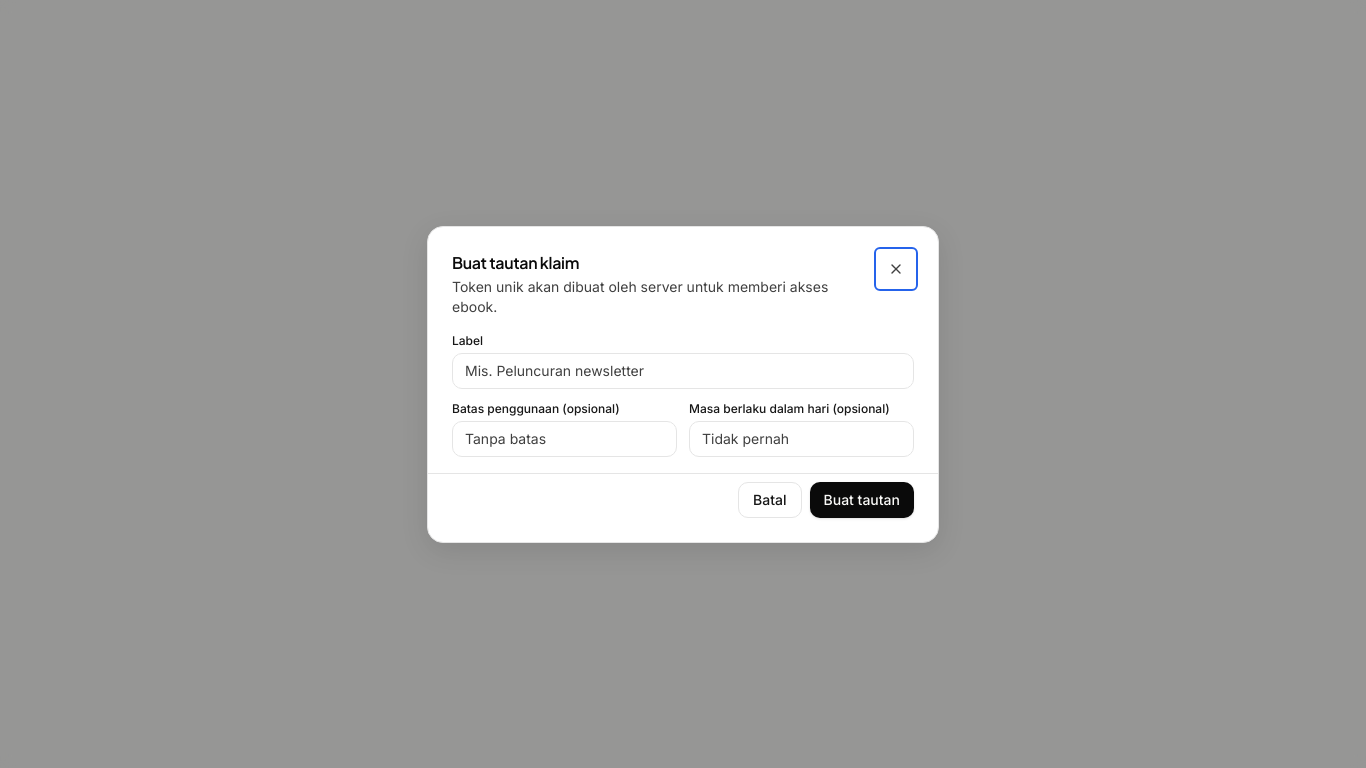
Scenario: komponen manajemen publikasi › memakai constraint native dan error field tanpa mengirim payload invalid
The width and height of the screenshot is (1366, 768).
Type "Peluncuran" into the field labelled "Label" at [683, 370], box [452,352,914,388]
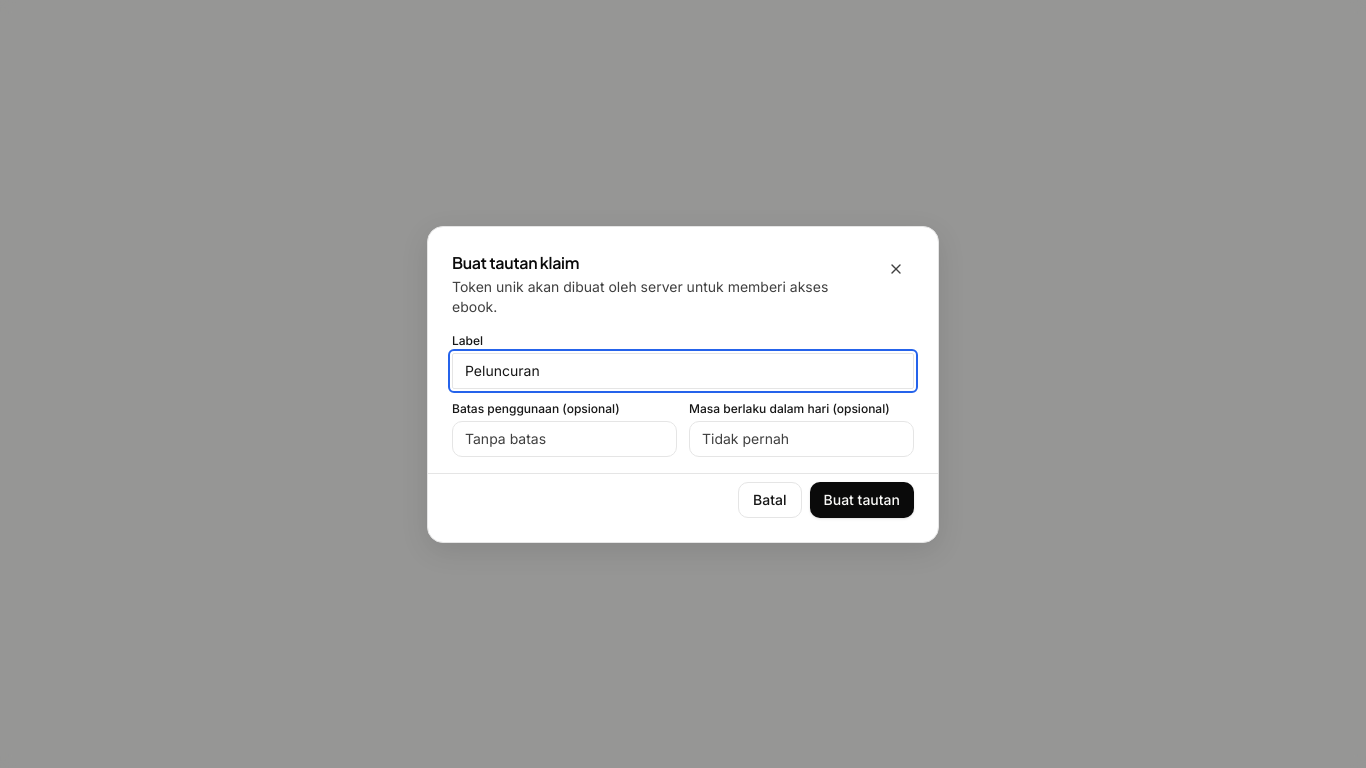
Type "0" into the number field labelled "Batas penggunaan (opsional)" at [564, 438], box [452,420,677,456]
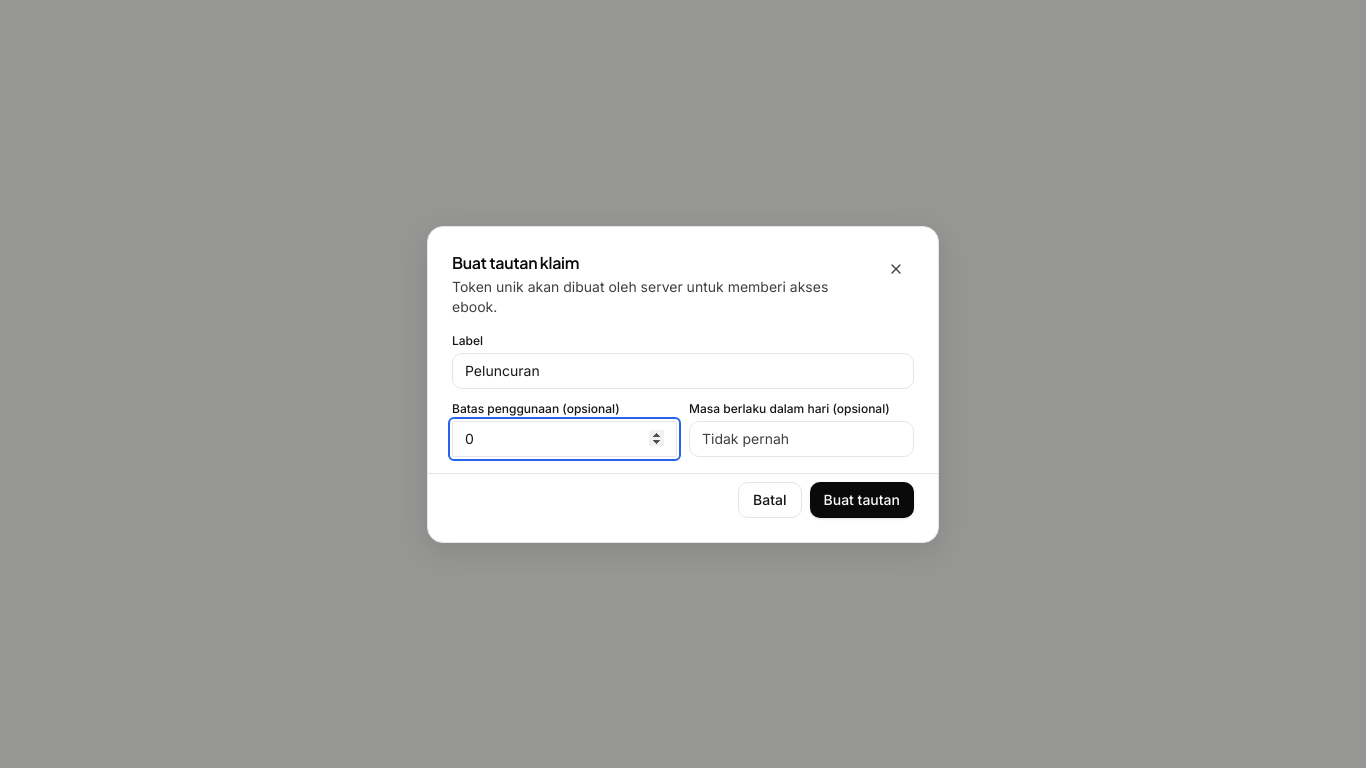
Click the button "Buat tautan" at [862, 500], box [810,482,914,518]
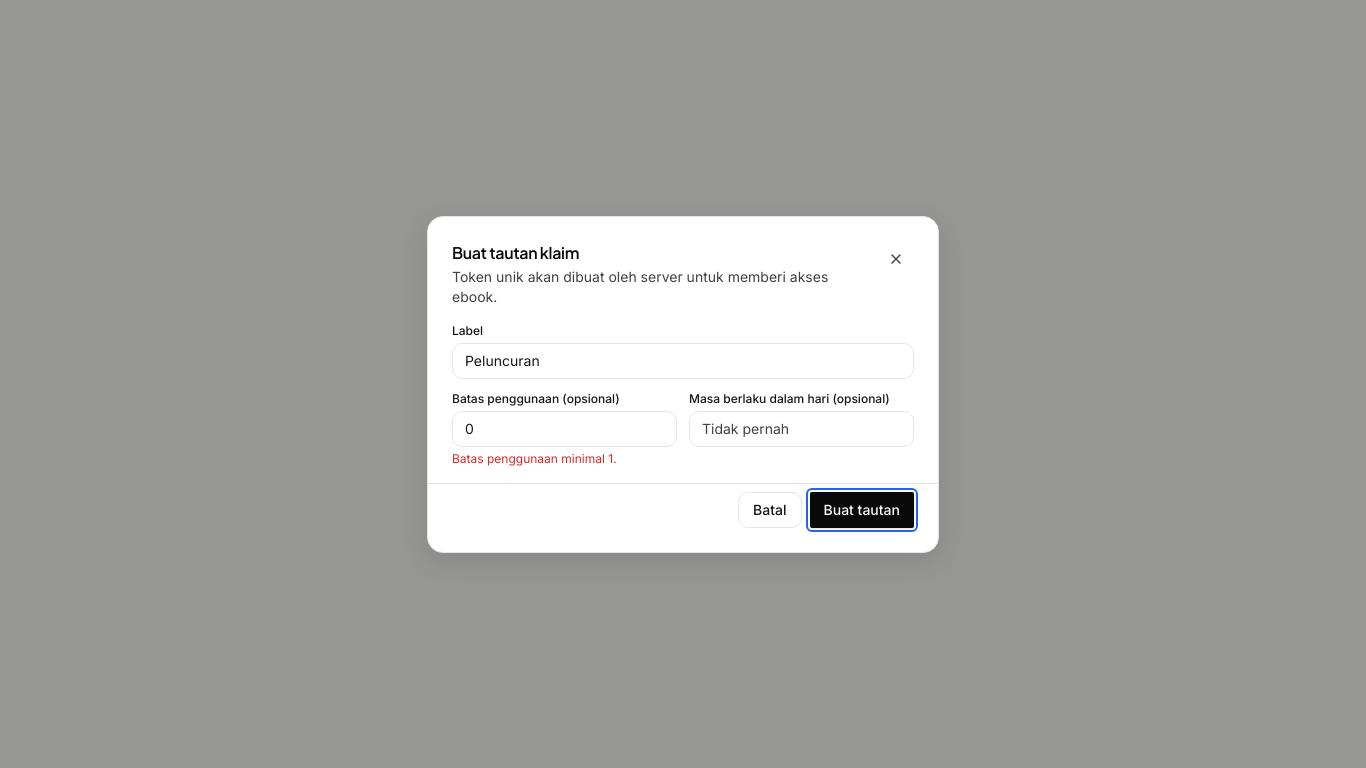
Expected: the text "Batas penggunaan minimal 1." is shown, [452,450,617,466]
